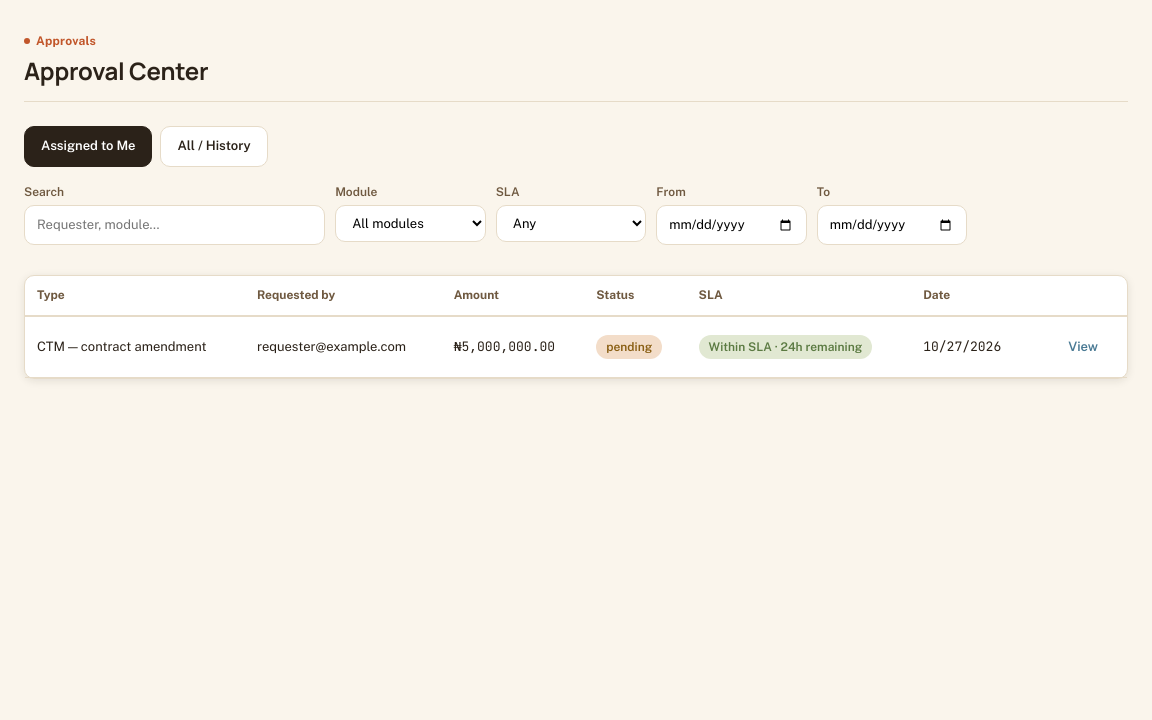
Scenario: ApprovalCenterPage › escalation › hides Escalate when the current step has no escalation target
Expected: the text "requester@example.com" is shown, [245,316,442,378]
Click the button "View". click: (1083, 347)
box: [1051,327,1115,367]
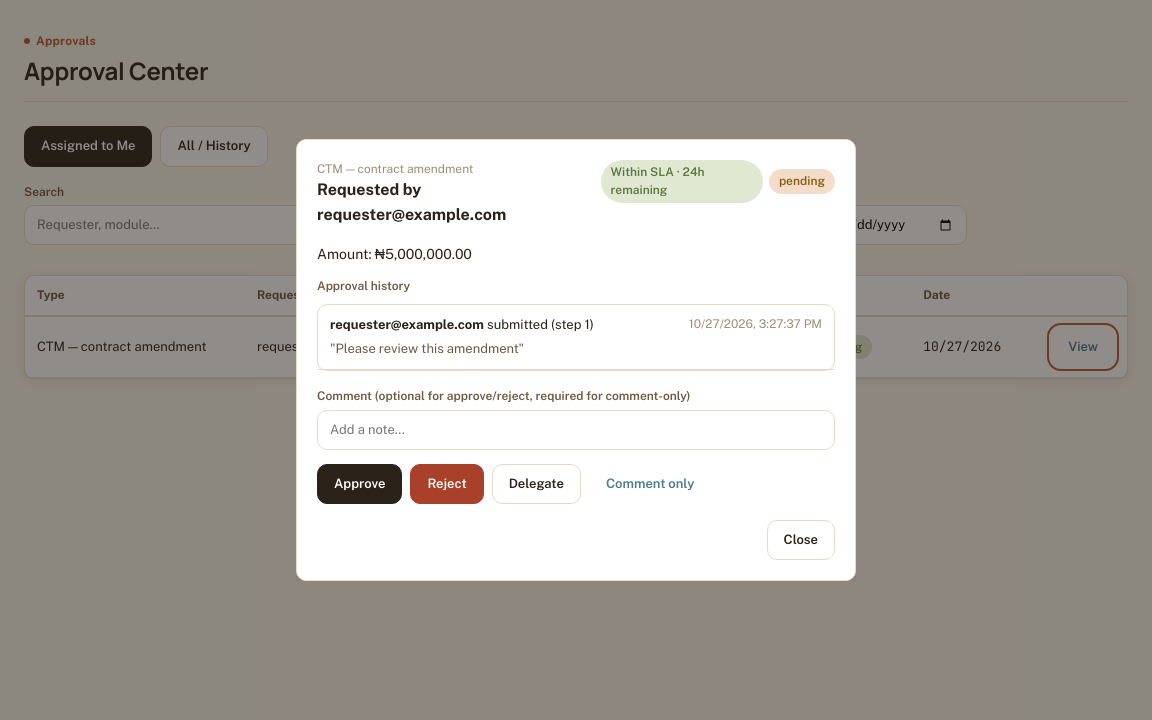
Expected: the button "Approve" is shown, [317,464,402,504]
